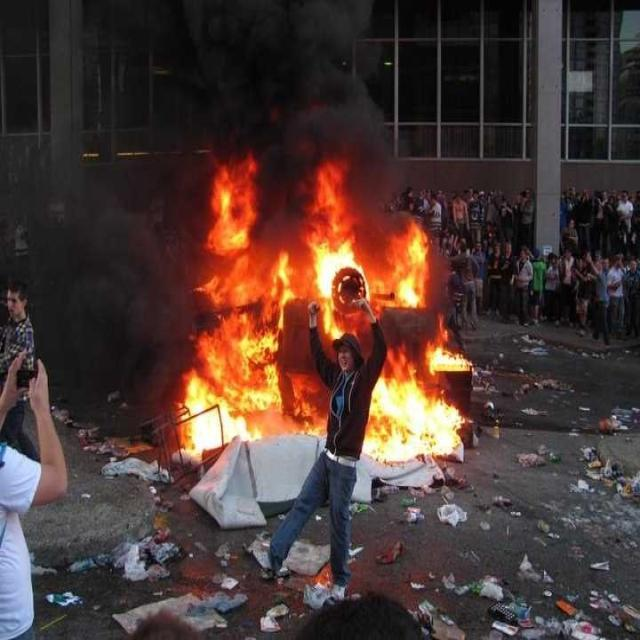Fire: (196, 154, 456, 472)
Smoke: (160, 15, 410, 126), (45, 180, 169, 382)
